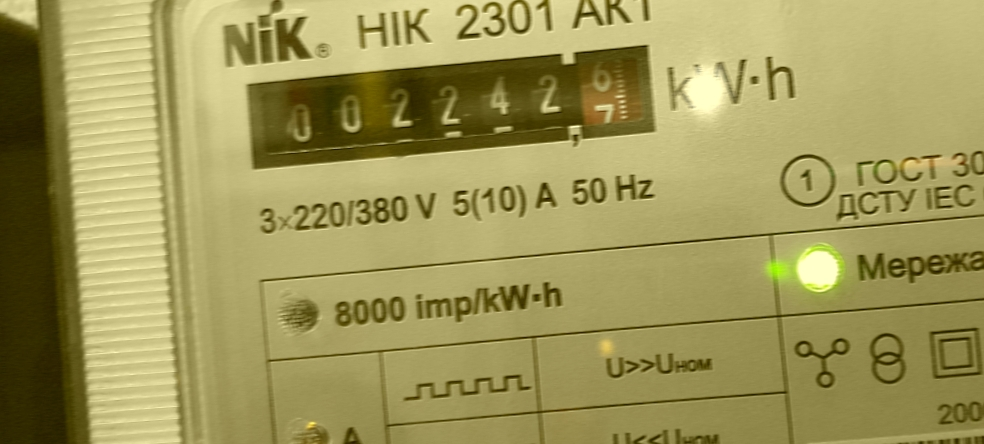0: (337, 90, 365, 134), (388, 85, 415, 129), (289, 99, 314, 144)
2: (535, 70, 563, 116), (437, 81, 464, 127)
4: (486, 72, 512, 117)
6: (589, 58, 615, 93)
7: (592, 101, 617, 125)
screen: (235, 32, 674, 184)
